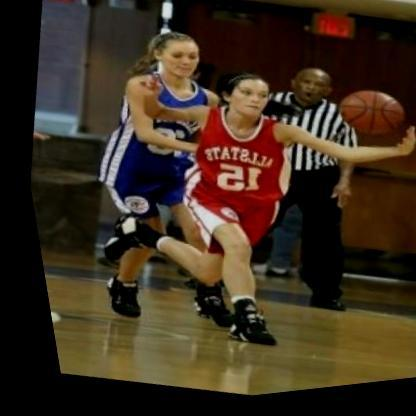basketball: (317, 81, 414, 161)
